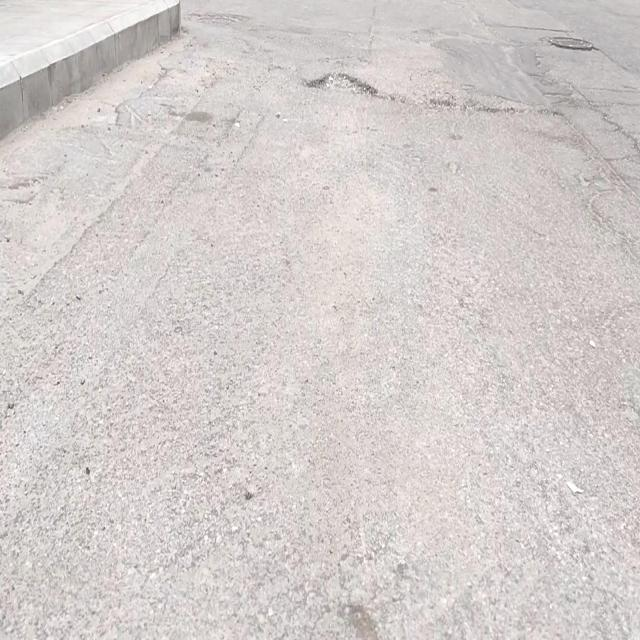Potholes: (302, 69, 379, 97)
